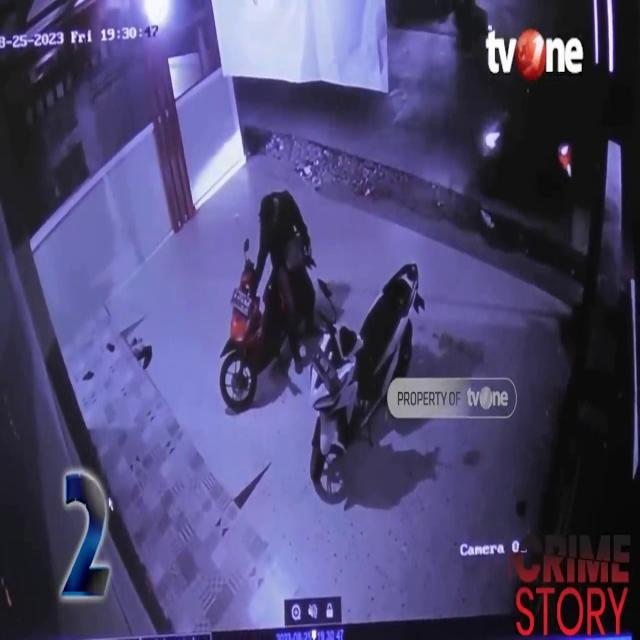pencurian: (224, 188, 314, 372)
